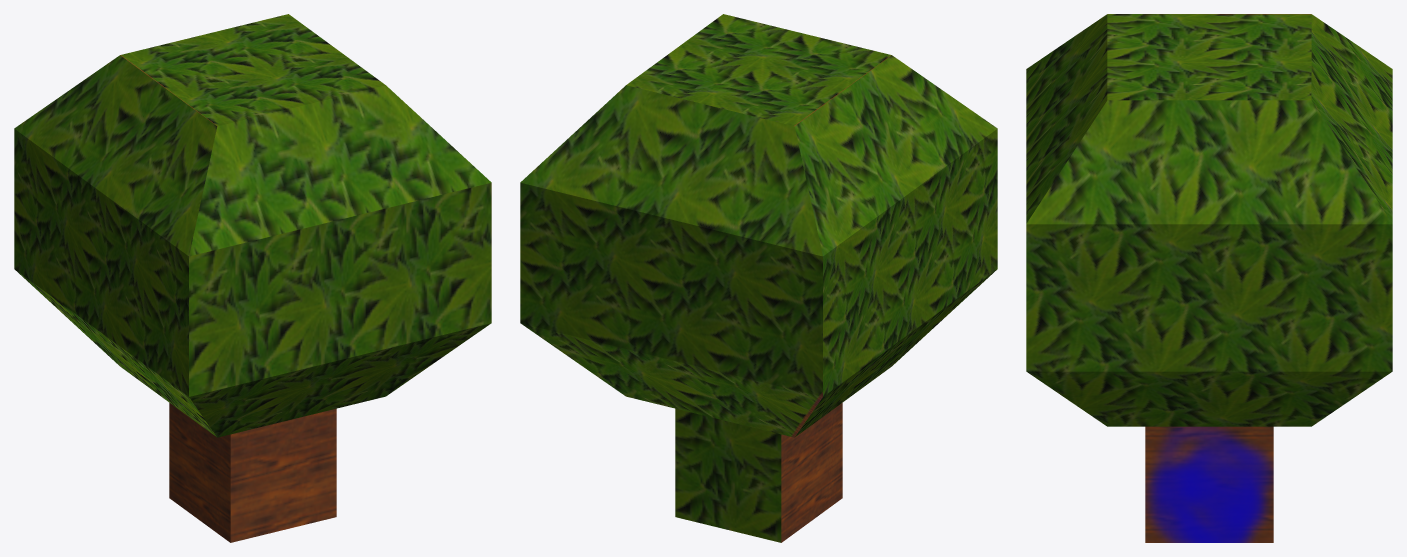
Rendered from baum.obj.
The picture shows the model from 3 angles, left to right: view 1: azimuth 30°, elevation 25°; view 2: azimuth 150°, elevation 25°; view 3: azimuth 270°, elevation 25°; orthographic projection. The views are drawn at different scales.
Parts seen in each view (by area): view 1: Cube; view 2: Cube; view 3: Cube.
Boxes of the visible parts, <box> form: Cube: <box>14,14,491,542</box>; Cube: <box>520,14,997,542</box>; Cube: <box>1026,14,1392,542</box>.
Bounding box in the file's own units: 2 × 2.76 × 2.
Materials: 1 (1 with a texture image).
